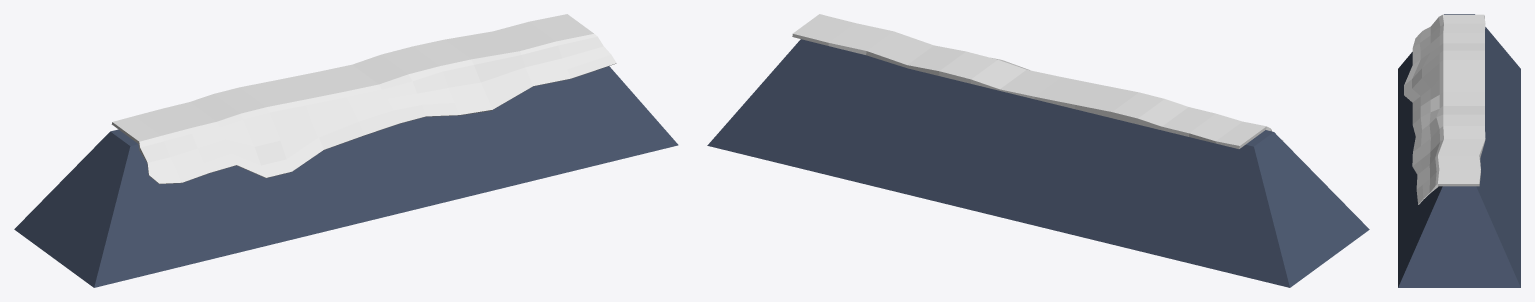
The model's file is roof.fbx.
3 views of the same model, side by side, from view 1: azimuth 30°, elevation 25°; view 2: azimuth 150°, elevation 25°; view 3: azimuth 270°, elevation 25° (orthographic). The views are drawn at different scales.
Visible parts, largest first — view 1: pCube7; view 2: pCube7; view 3: pCube7.
Boxes of the visible parts, box(x1,y1,x2,y2) form: pCube7: box(14, 14, 678, 287); pCube7: box(707, 14, 1369, 287); pCube7: box(1398, 14, 1520, 287).
Bounding box in the file's own units: 181 × 32.51 × 42.86.
